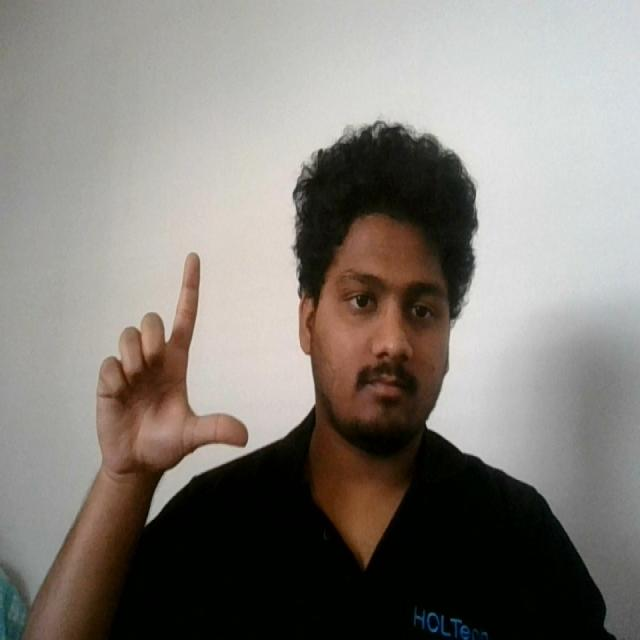IloveYou: (88, 245, 257, 488)
